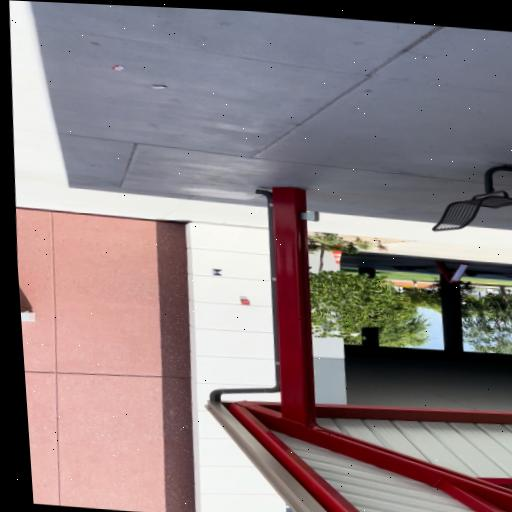target6: (210, 268, 223, 276)
